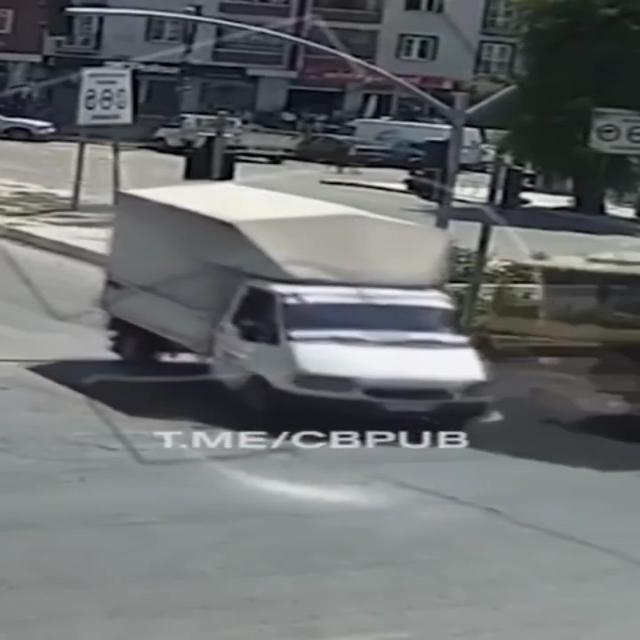accident: (71, 144, 640, 473)
